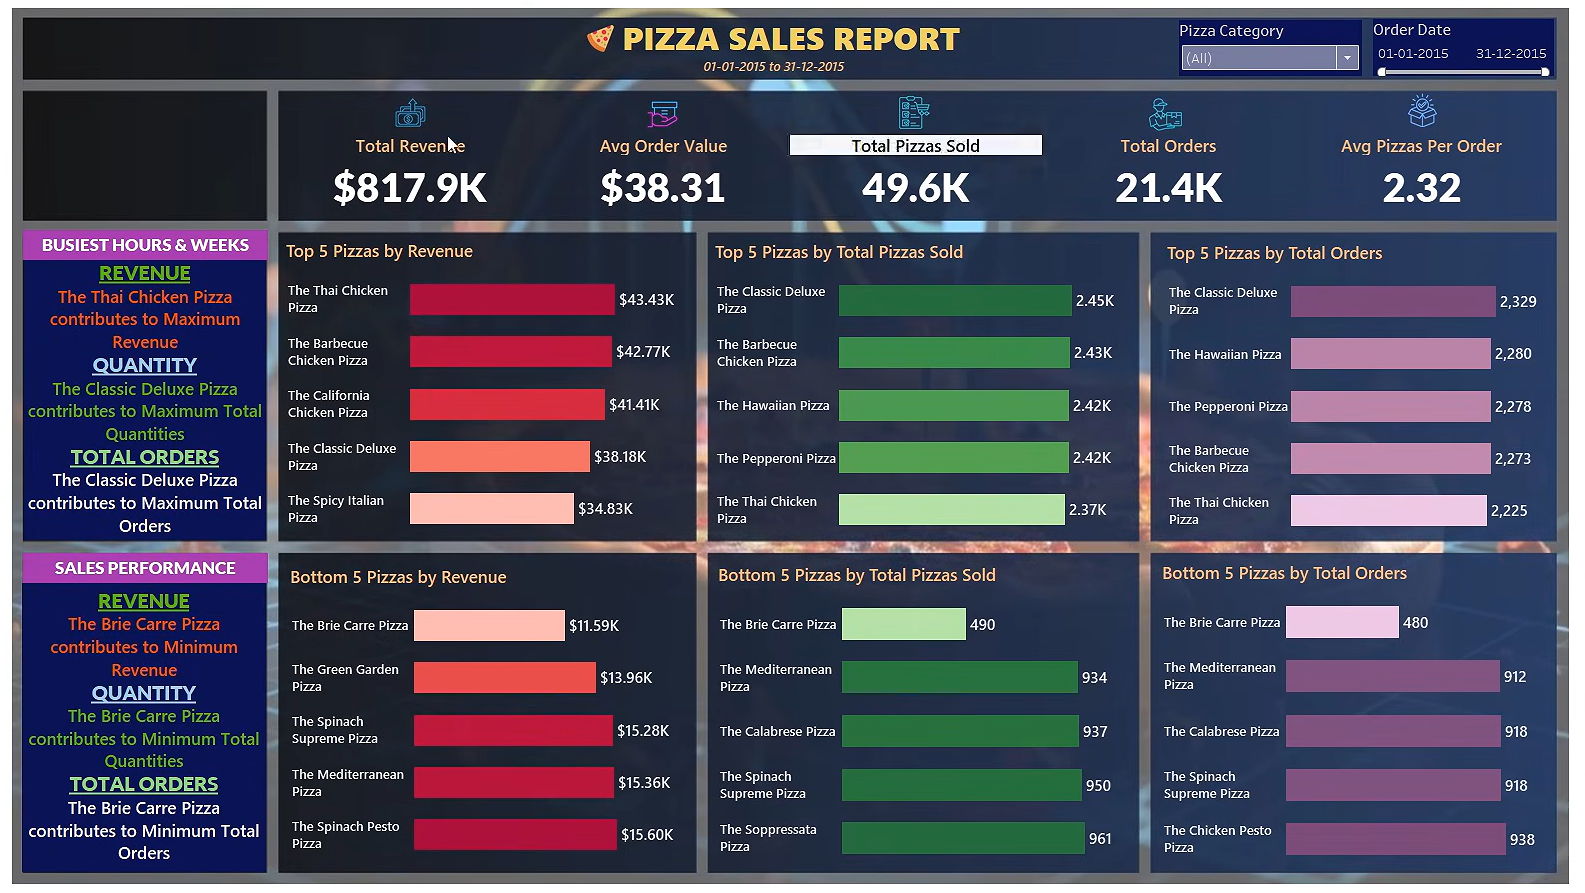

What the dashboard file says about the page in this screenshot:
{"tool":"tableau","page":{"name":"Best/ Worst Sellers","canvas":[1600,900],"ordinal":0},"visuals":[{"type":"image","param":"Image/Pizza Tableau 2.jpg","box":[0,0,1600,900]},{"type":"filter","title":"Top 5 Pizzas by Quantity","param":"[federated.1nn7g37097crt1180lo9p08y1th8].[none:order_date:qk]","box":[1398,14,180,62]},{"type":"filter","title":"Top 5 Pizzas by Revenue","param":"[federated.1nn7g37097crt1180lo9p08y1th8].[none:pizza_category:nk]","box":[1214,15,177,61]},{"type":"text","box":[107,16,153,31]},{"type":"text","box":[618,16,362,36]},{"type":"image","param":"Image/DT 2.png","box":[21,20,72,49]},{"type":"text","box":[143,40,110,31]},{"type":"worksheet","title":"Date Range","mark":"Automatic","box":[687,52,216,22]},{"type":"image","param":"Image/profit-growth.png","box":[389,91,45,37]},{"type":"image","param":"Image/delivery-man.png","box":[1159,92,40,34]},{"type":"image","param":"Image/shipping-box.png","box":[645,94,43,31]},{"type":"image","param":"Image/order-delivery.png","box":[910,94,38,31]},{"type":"image","param":"Image/order (1).png","box":[1422,95,41,34]},{"type":"dashboard-object","box":[23,102,233,47]},{"type":"image","param":"Image/home (1).png","box":[26,106,42,36]},{"type":"worksheet","title":"KPI Banner","mark":"Automatic","box":[281,134,1290,82]},{"type":"dashboard-object","box":[25,162,233,47]},{"type":"image","param":"Image/choice.png","box":[25,170,42,36]},{"type":"text","box":[18,232,250,30]},{"type":"worksheet","title":"Top 5 Pizzas by Revenue","mark":"Automatic","rows":["pizza_name"],"cols":["Calculation_1225260629919870977"],"box":[283,238,414,305]},{"type":"worksheet","title":"Top 5 Pizzas by Quantity","mark":"Automatic","rows":["pizza_name"],"cols":["quantity"],"box":[723,238,423,300]},{"type":"worksheet","title":"Top 5 Pizzas by Orders","mark":"Automatic","rows":["pizza_name"],"cols":["Calculation_1225260629919797248"],"box":[1171,239,402,300]},{"type":"text","box":[19,262,247,283]},{"type":"text","box":[17,558,250,30]},{"type":"worksheet","title":"Bottom 5 Pizzas by Orders","mark":"Automatic","rows":["pizza_name"],"cols":["Calculation_1225260629919797248"],"box":[1171,563,403,310]},{"type":"worksheet","title":"Bottom 5 Pizzas by Quantity","mark":"Automatic","rows":["pizza_name"],"cols":["quantity"],"box":[726,565,417,310]},{"type":"worksheet","title":"Bottom 5 Pizzas by Revenue","mark":"Automatic","rows":["pizza_name"],"cols":["Calculation_1225260629919870977"],"box":[284,567,408,311]},{"type":"text","box":[19,589,247,295]}]}

Visuals, with their boxes in screenshot pixels (x1, y1, x2, y2), scaled from the page's 1600x900 canvas onto the 1585x893 screenshot:
image: <bbox>0, 0, 1584, 892</bbox>
"Top 5 Pizzas by Quantity" filter: <bbox>1385, 14, 1563, 75</bbox>
"Top 5 Pizzas by Revenue" filter: <bbox>1203, 15, 1378, 75</bbox>
text: <bbox>106, 16, 258, 47</bbox>
text: <bbox>612, 16, 971, 52</bbox>
image: <bbox>21, 20, 92, 68</bbox>
text: <bbox>142, 40, 251, 70</bbox>
"Date Range" worksheet: <bbox>681, 52, 895, 73</bbox>
image: <bbox>385, 90, 430, 127</bbox>
image: <bbox>1148, 91, 1188, 125</bbox>
image: <bbox>639, 93, 682, 124</bbox>
image: <bbox>901, 93, 939, 124</bbox>
image: <bbox>1409, 94, 1449, 128</bbox>
dashboard-object: <bbox>23, 101, 254, 148</bbox>
image: <bbox>26, 105, 67, 141</bbox>
"KPI Banner" worksheet: <bbox>278, 133, 1556, 214</bbox>
dashboard-object: <bbox>25, 161, 256, 207</bbox>
image: <bbox>25, 169, 66, 204</bbox>
text: <bbox>18, 230, 265, 260</bbox>
"Top 5 Pizzas by Revenue" worksheet: <bbox>280, 236, 690, 539</bbox>
"Top 5 Pizzas by Quantity" worksheet: <bbox>716, 236, 1135, 534</bbox>
"Top 5 Pizzas by Orders" worksheet: <bbox>1160, 237, 1558, 535</bbox>
text: <bbox>19, 260, 264, 541</bbox>
text: <bbox>17, 554, 264, 583</bbox>
"Bottom 5 Pizzas by Orders" worksheet: <bbox>1160, 559, 1559, 866</bbox>
"Bottom 5 Pizzas by Quantity" worksheet: <bbox>719, 561, 1132, 868</bbox>
"Bottom 5 Pizzas by Revenue" worksheet: <bbox>281, 563, 686, 871</bbox>
text: <bbox>19, 584, 264, 877</bbox>
